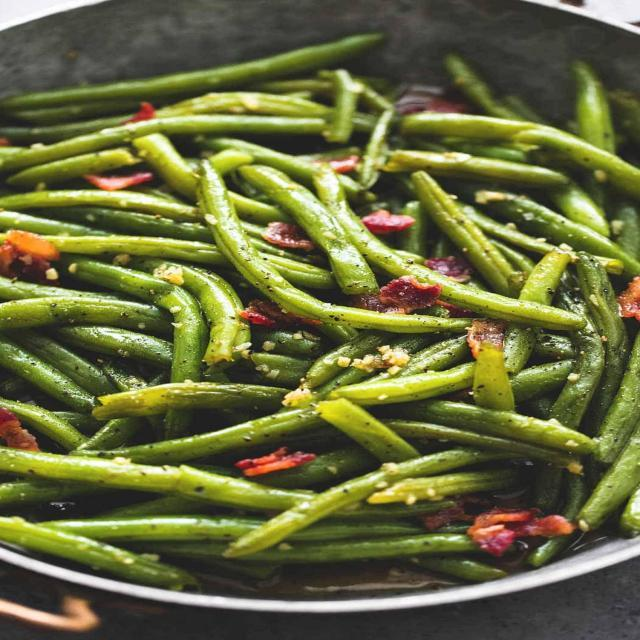Beans: (0, 18, 639, 619)
